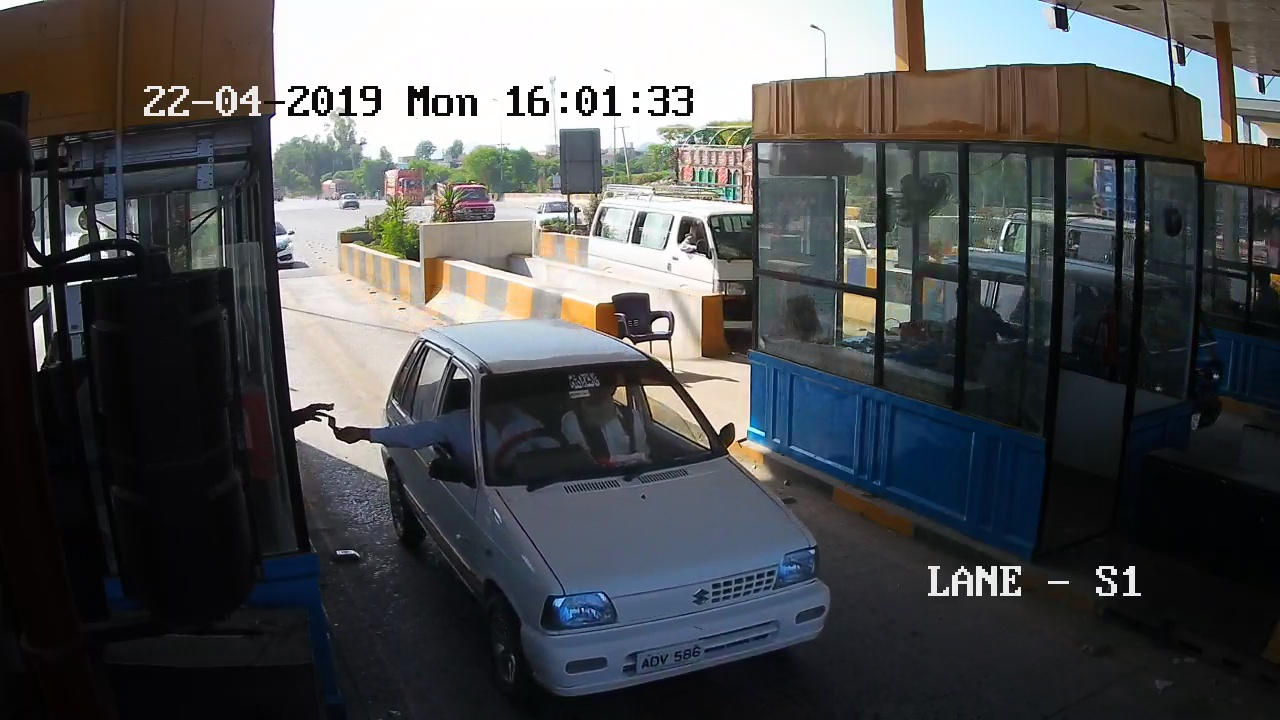Number Plate (Car): (633, 639, 708, 670)
